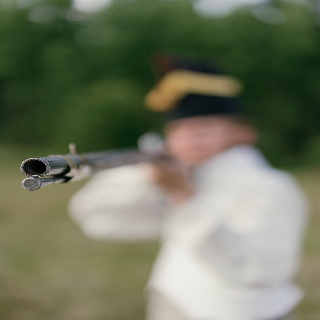rifle: (19, 139, 181, 191)
